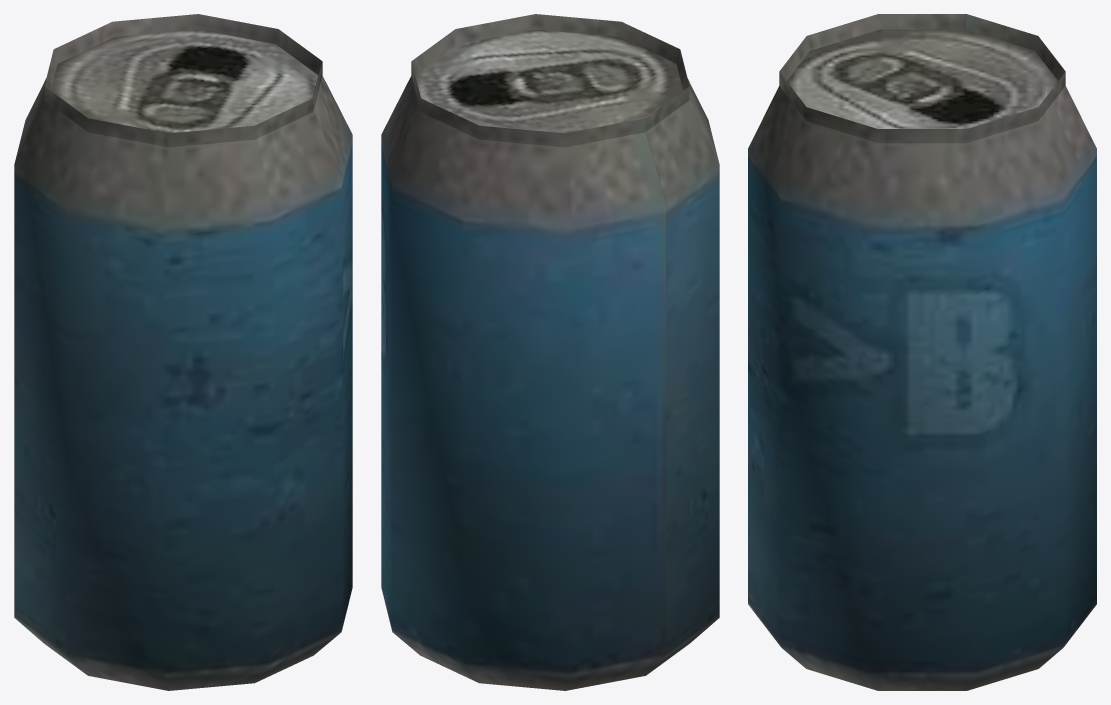
The model's file is popcan01a.glb.
3 views of the same model, side by side, from view 1: azimuth 30°, elevation 25°; view 2: azimuth 150°, elevation 25°; view 3: azimuth 270°, elevation 25° (orthographic).
Visible parts, largest first — view 1: 0_PopCan01a; view 2: 0_PopCan01a; view 3: 0_PopCan01a.
Part boxes in pixels (x1,y1,x2,y2): 0_PopCan01a: (14,14,352,690); 0_PopCan01a: (381,14,719,690); 0_PopCan01a: (748,14,1096,690).
Bounding box in the file's own units: 0.0924 × 0.1726 × 0.0971.
1 material, 1 textured.
